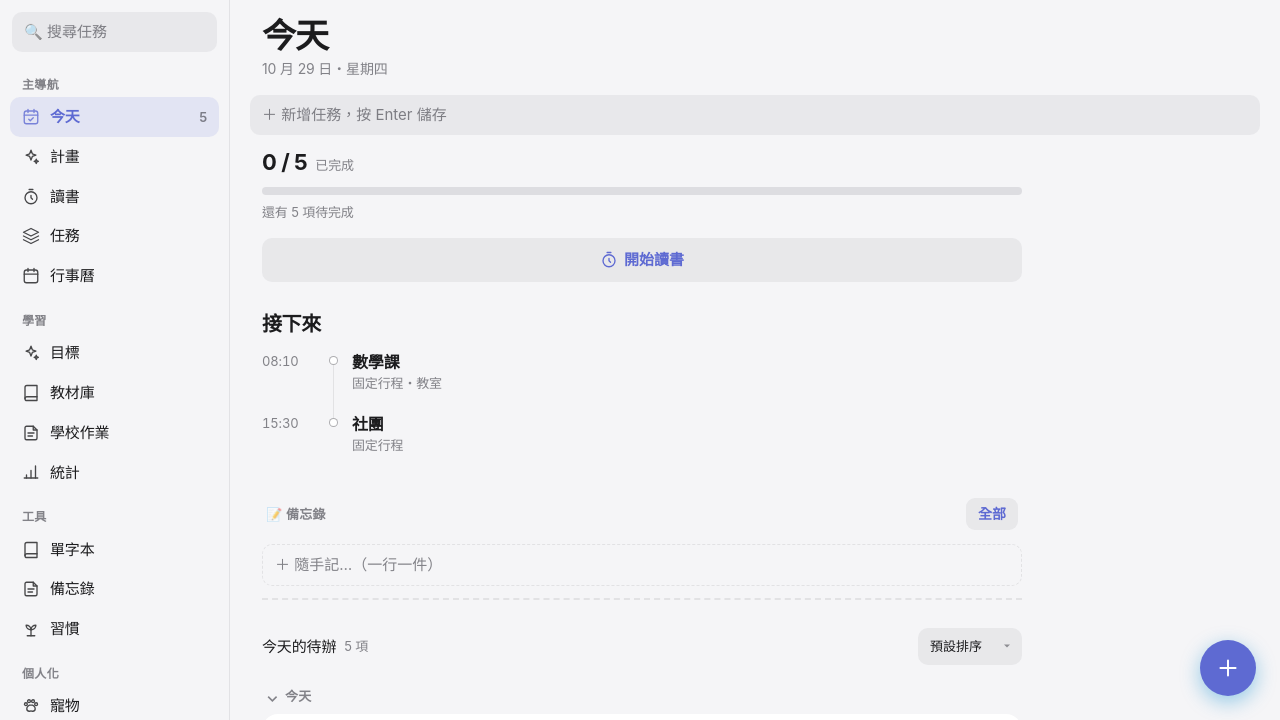
Test: Global Add › 選「學校作業」→ 開學校作業表單（同一顆 ＋，不是另一套入口）
This screenshot has width=1280, height=720.
expect the heading "今天" is shown: met, box [262,15,328,56]
Click the button named "新增": (1228, 668) [1200,640,1256,696]
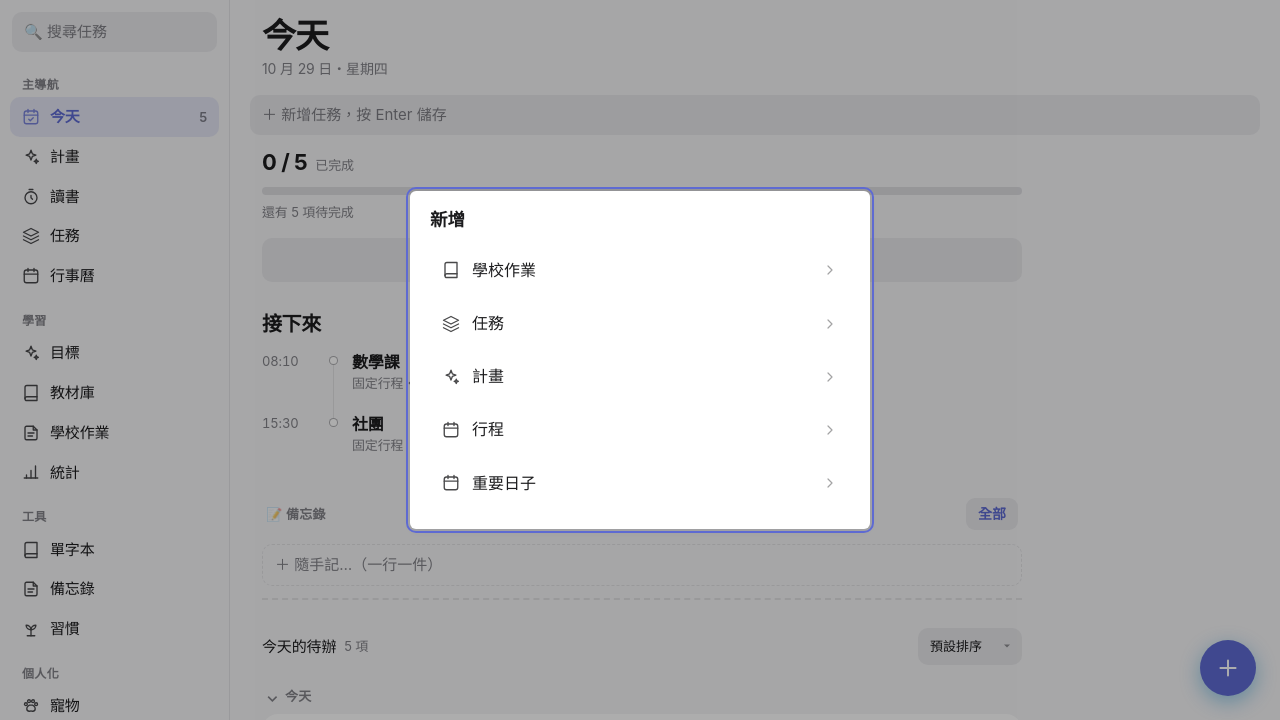
Click the button with aria-label "新增學校作業": (504, 270) [430,245,850,296]
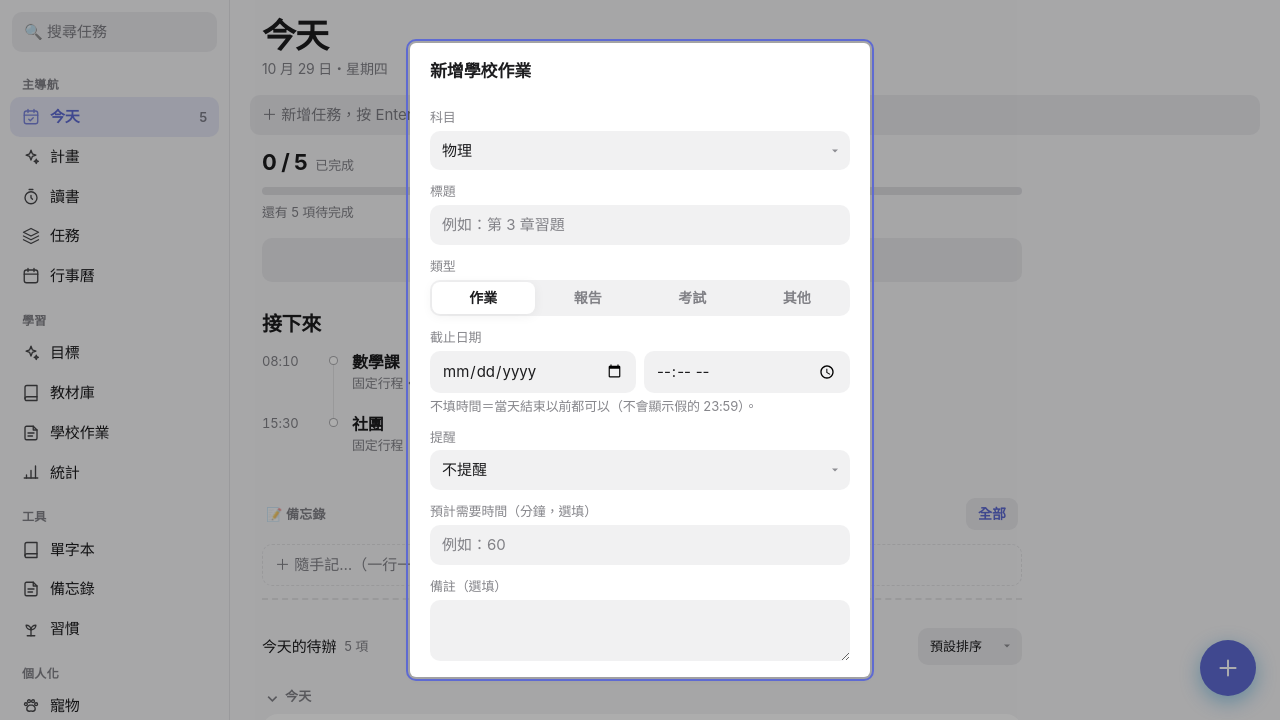
expect the heading "新增學校作業" is shown: met, box [430,61,531,81]
